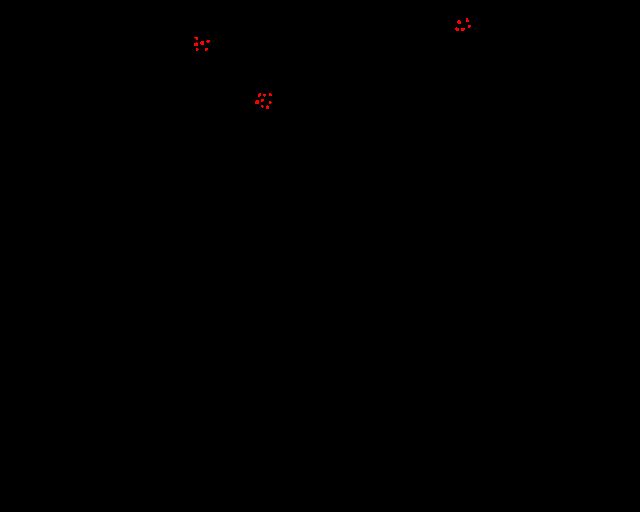Target: (457, 20, 461, 24), (455, 27, 459, 31), (200, 41, 204, 45), (194, 42, 198, 46), (255, 100, 259, 104), (466, 18, 469, 22), (461, 28, 465, 31), (194, 37, 198, 40), (206, 40, 210, 43), (258, 93, 261, 97), (266, 105, 269, 109), (468, 25, 471, 28), (196, 48, 199, 51), (205, 48, 208, 51), (269, 93, 272, 96), (263, 94, 266, 97), (261, 99, 264, 102), (269, 101, 272, 104), (261, 105, 264, 108)
